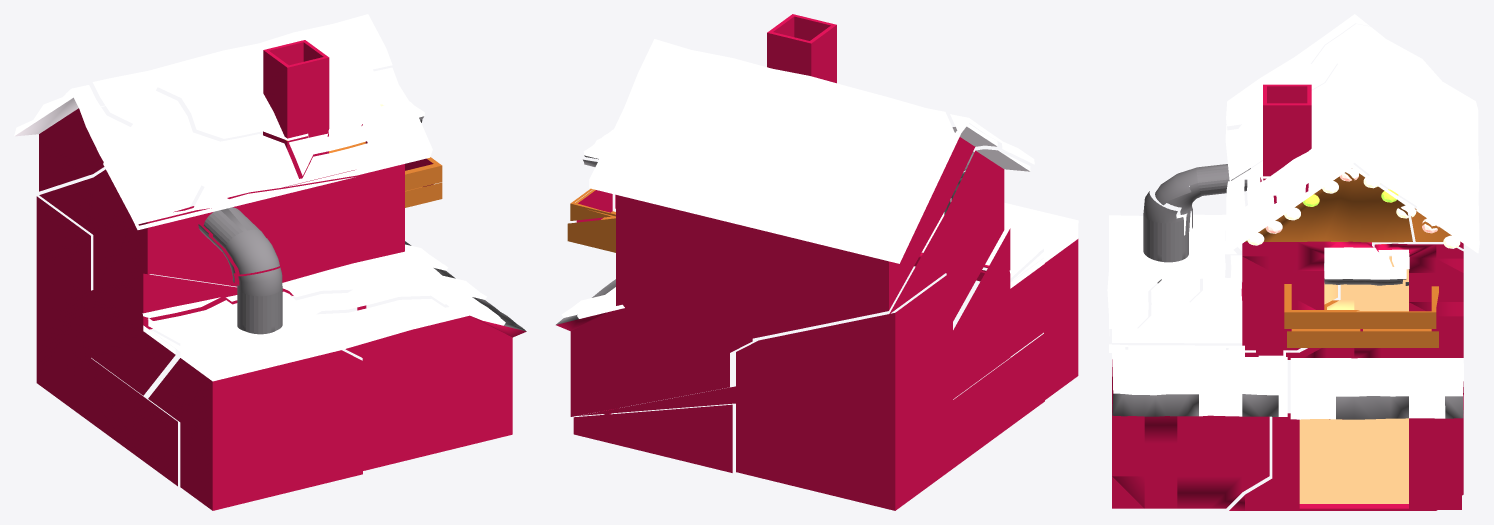
File: xmasFactory-explosion.glb
The picture shows the model from 3 angles, left to right: view 1: azimuth 30°, elevation 25°; view 2: azimuth 150°, elevation 25°; view 3: azimuth 270°, elevation 25°; orthographic projection. The views are drawn at different scales.
Parts seen in each view (by area): view 1: Icosphere.015, Icosphere.004, Icosphere.010, Icosphere.016, Icosphere.027, Icosphere.002, Icosphere.001, Icosphere.008, Icosphere.018, Icosphere.019, Icosphere.005, Icosphere.000 (+2 smaller); view 2: Icosphere.004, Icosphere.027, Icosphere.013, Icosphere.015, Icosphere.001, Icosphere.008, Icosphere.033, Icosphere.019, Icosphere.030, Icosphere.002, Icosphere.032; view 3: Icosphere.013, Icosphere.004, Icosphere.010, Icosphere.016, Icosphere.015, Icosphere.018, Icosphere.002, Icosphere.019, Icosphere.032, Icosphere.030, Icosphere.000, Icosphere.005 (+1 smaller).
Boxes of the visible parts, x1,y1,x2,y2 form: Icosphere.015: (148, 291, 470, 510); Icosphere.004: (14, 14, 392, 191); Icosphere.010: (345, 257, 526, 470); Icosphere.016: (148, 67, 432, 294); Icosphere.027: (36, 196, 177, 486); Icosphere.002: (65, 85, 350, 224); Icosphere.001: (39, 169, 355, 289); Icosphere.008: (89, 273, 237, 395); Icosphere.018: (282, 251, 470, 311); Icosphere.019: (263, 40, 329, 165); Icosphere.005: (203, 207, 279, 274); Icosphere.000: (237, 267, 282, 334); Icosphere.004: (589, 39, 997, 338); Icosphere.027: (578, 271, 1044, 510); Icosphere.013: (556, 158, 1037, 416); Icosphere.015: (926, 198, 1078, 399); Icosphere.001: (889, 147, 1030, 321); Icosphere.008: (946, 228, 1044, 399); Icosphere.033: (573, 404, 732, 472); Icosphere.019: (767, 14, 836, 83); Icosphere.030: (567, 189, 615, 252); Icosphere.002: (950, 114, 1034, 164); Icosphere.032: (570, 188, 615, 220); Icosphere.013: (1117, 243, 1463, 510); Icosphere.004: (1231, 24, 1479, 253); Icosphere.010: (1112, 346, 1287, 508); Icosphere.016: (1225, 164, 1414, 355); Icosphere.015: (1107, 214, 1236, 352); Icosphere.018: (1112, 276, 1242, 343); Icosphere.002: (1226, 14, 1369, 180); Icosphere.019: (1263, 84, 1311, 176); Icosphere.032: (1284, 284, 1436, 331); Icosphere.030: (1287, 286, 1438, 347); Icosphere.000: (1143, 191, 1188, 283); Icosphere.005: (1155, 164, 1250, 205).
Bounding box in the file's own units: 7.65 × 7.48 × 7.17.
